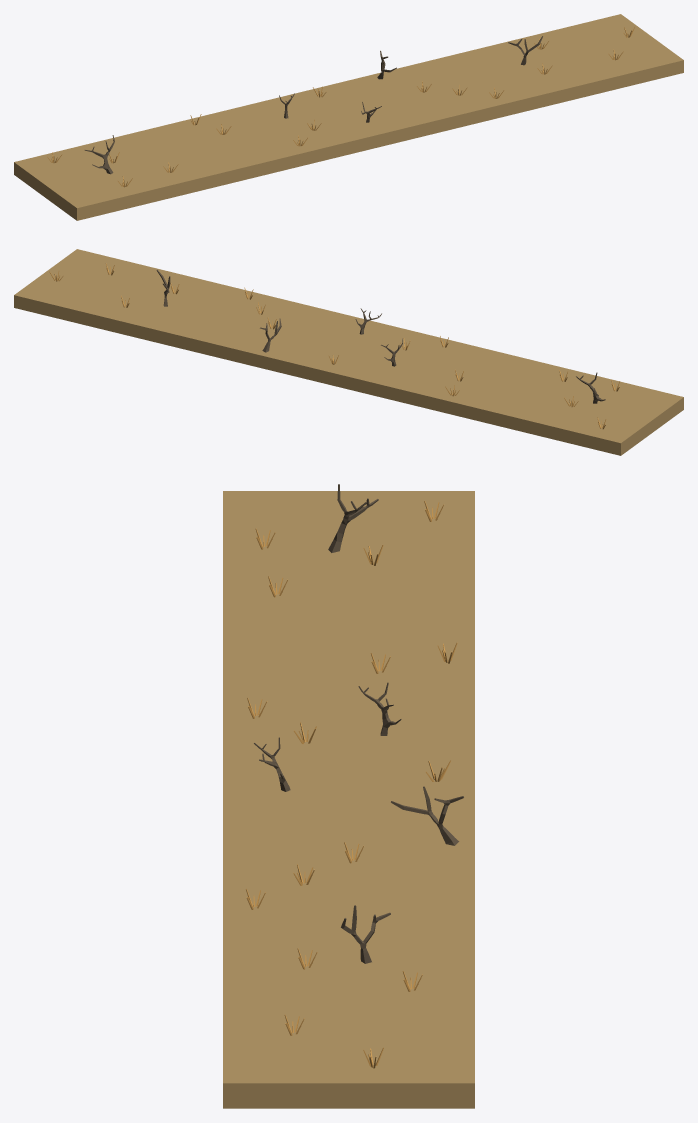
Rendered from Fora-Desolação-3.glb.
3 renders of one model, top to bottom at view 1: azimuth 30°, elevation 25°; view 2: azimuth 150°, elevation 25°; view 3: azimuth 270°, elevation 25°, orthographic. The views are drawn at different scales.
Visible parts, largest first — view 1: CHAOFORA.003; view 2: CHAOFORA.003; view 3: CHAOFORA.003.
Boxes of the visible parts, x1,y1,x2,y2 form: CHAOFORA.003: [14, 14, 683, 220]; CHAOFORA.003: [14, 249, 683, 455]; CHAOFORA.003: [223, 491, 474, 1108].
Size of the model in its own units: 50 by 3.49 by 9.
